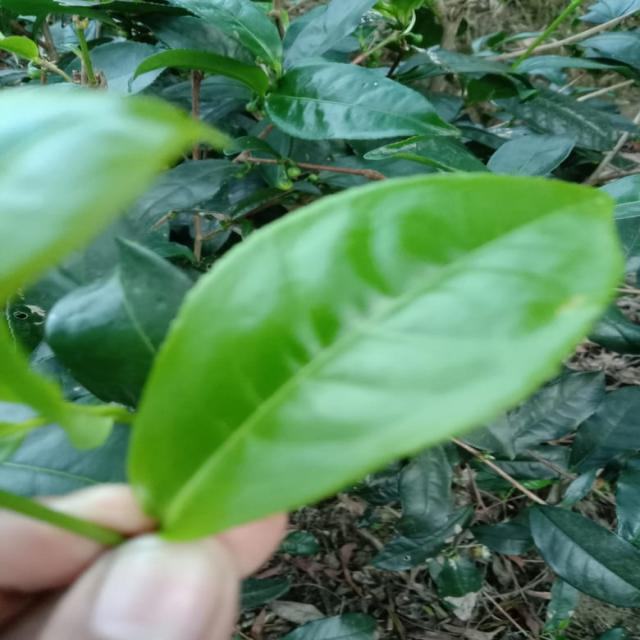Category C 4-7 days: (112, 151, 636, 548)
